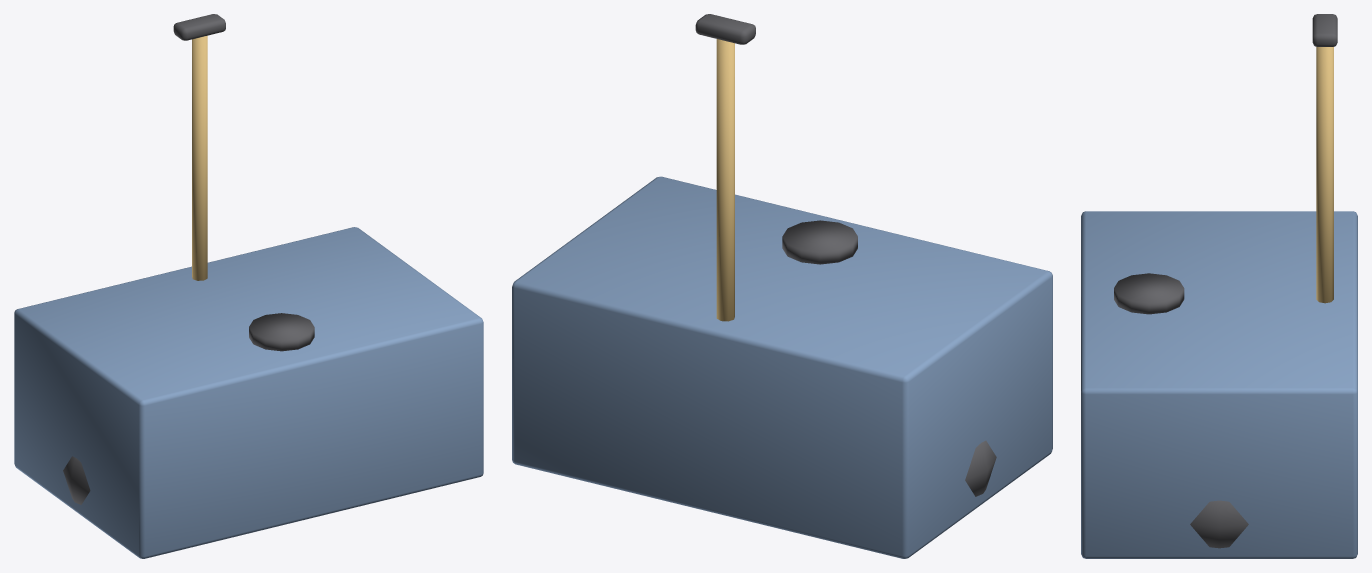
Rendered from macchinina.glb.
3 views of the same model, side by side, from view 1: azimuth 30°, elevation 25°; view 2: azimuth 150°, elevation 25°; view 3: azimuth 270°, elevation 25° (orthographic). The views are drawn at different scales.
Parts seen in each view (by area): view 1: COL_macchinina, asta, volante, pattino, paraurti; view 2: COL_macchinina, asta, volante, pattino, paraurti; view 3: COL_macchinina, asta, volante, paraurti, pattino.
Part boxes in pixels (left/top/right/bottom): COL_macchinina: left=14, top=227, right=483, bottom=558; asta: left=192, top=35, right=207, bottom=280; volante: left=249, top=313, right=314, bottom=351; pattino: left=173, top=14, right=225, bottom=40; paraurti: left=63, top=456, right=90, bottom=504; COL_macchinina: left=512, top=176, right=1052, bottom=558; asta: left=716, top=39, right=734, bottom=321; volante: left=782, top=220, right=857, bottom=264; pattino: left=695, top=14, right=755, bottom=44; paraurti: left=965, top=440, right=996, bottom=496; COL_macchinina: left=1081, top=211, right=1357, bottom=558; asta: left=1316, top=47, right=1333, bottom=303; volante: left=1114, top=273, right=1184, bottom=314; paraurti: left=1190, top=500, right=1248, bottom=548; pattino: left=1312, top=14, right=1337, bottom=46.
Bounding box in the file's own units: 1.76 × 1.96 × 1.1.
